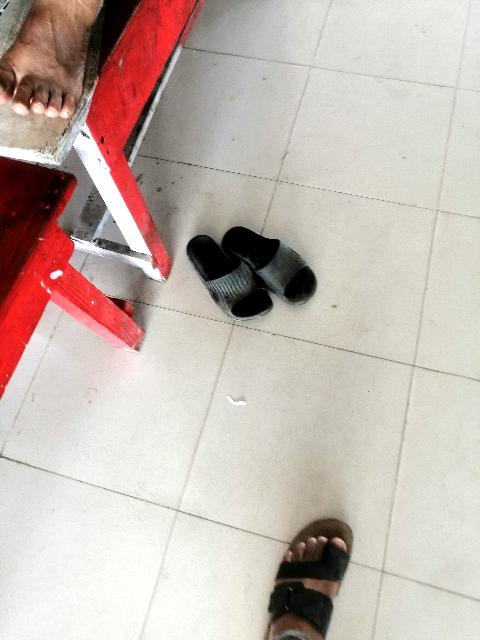sandal: (165, 182, 327, 346), (258, 514, 359, 631)
